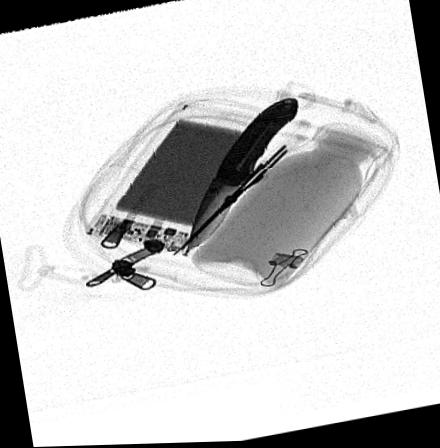Knife: (185, 97, 297, 257)
Powerbank: (89, 114, 281, 252)
Scissors: (172, 129, 315, 260)
